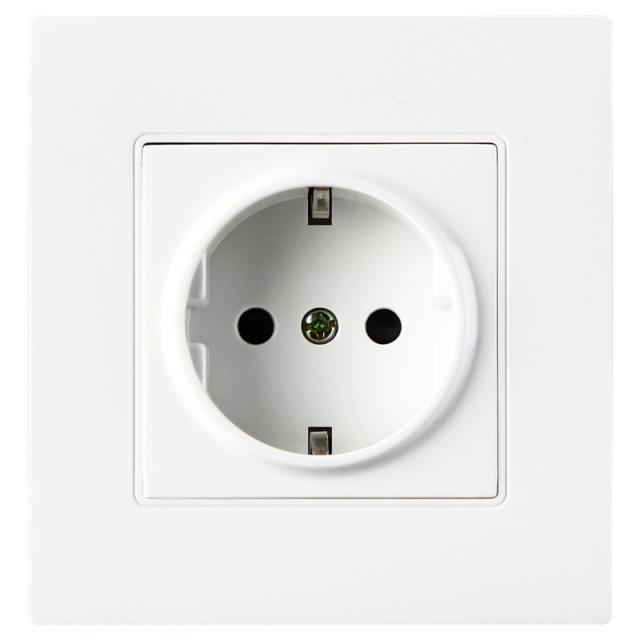typeb: (0, 4, 623, 640)
